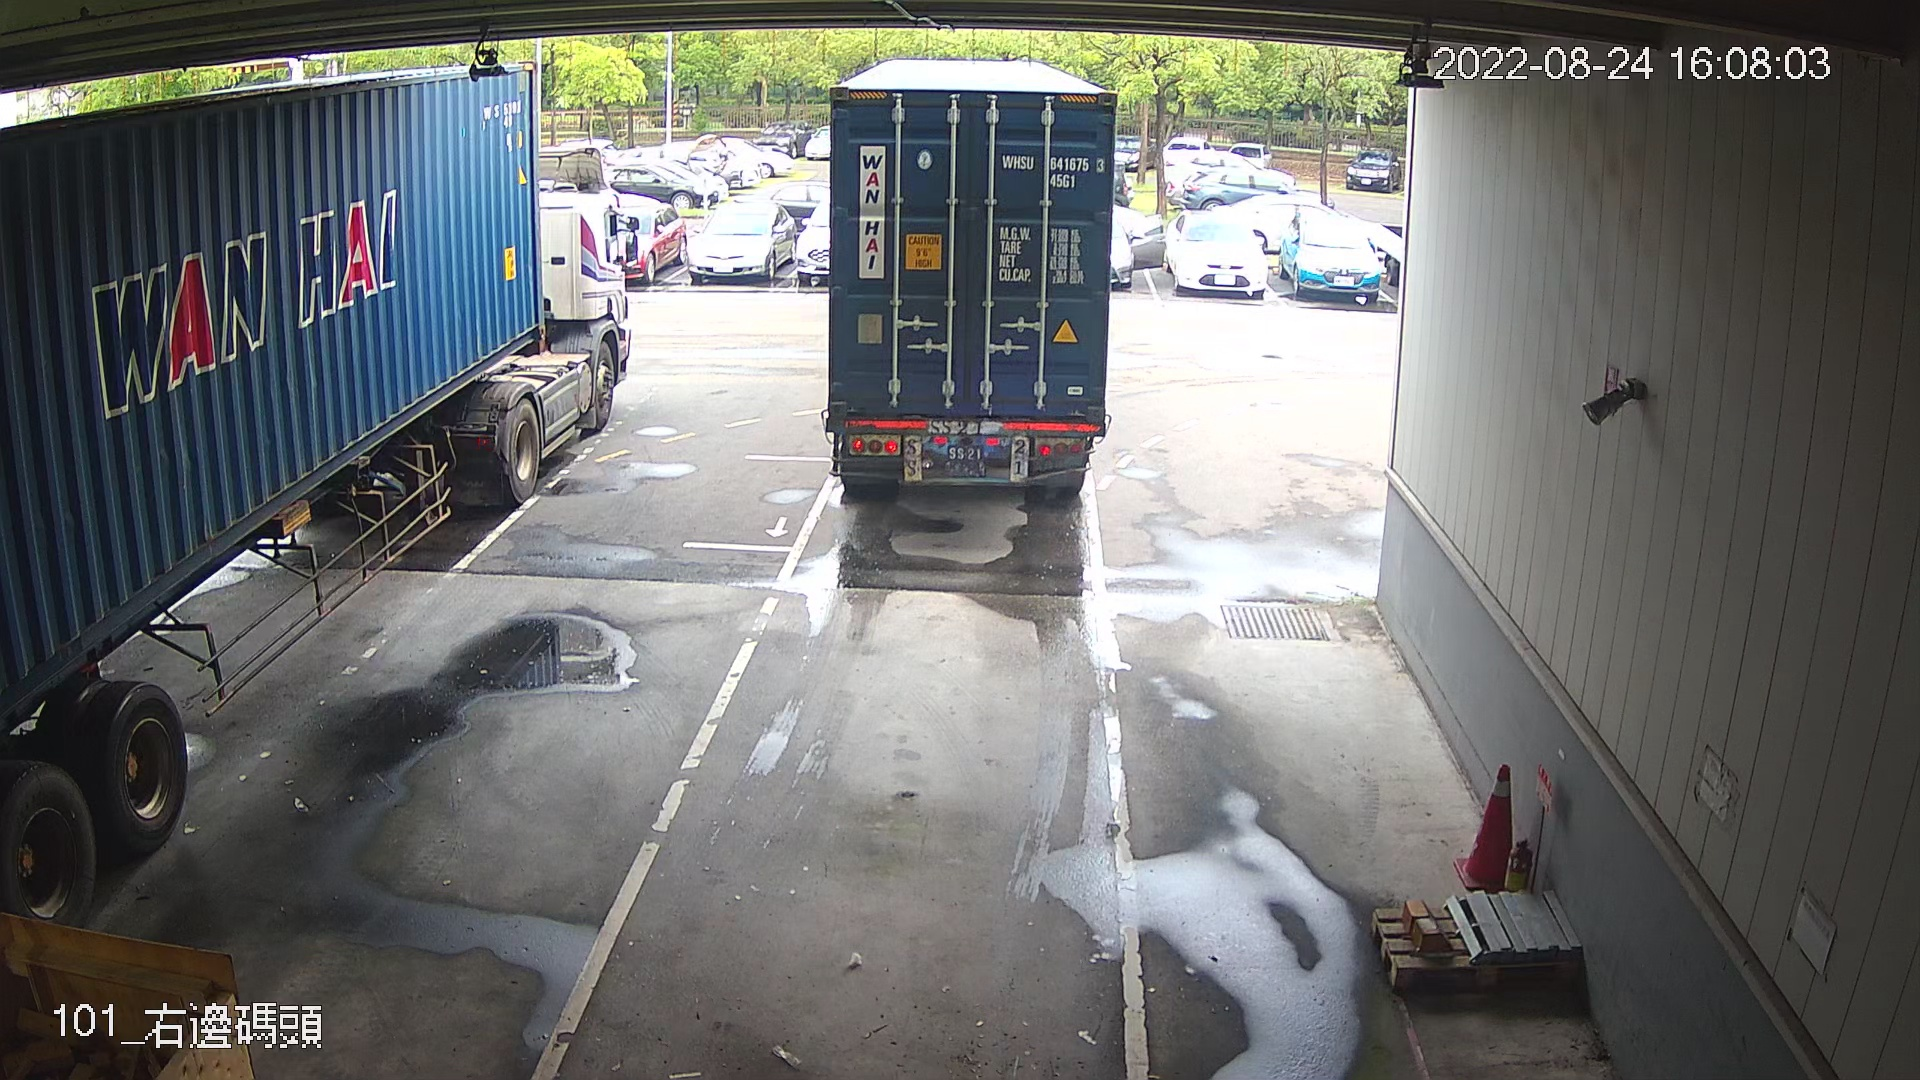container: (996, 145, 1109, 196)
